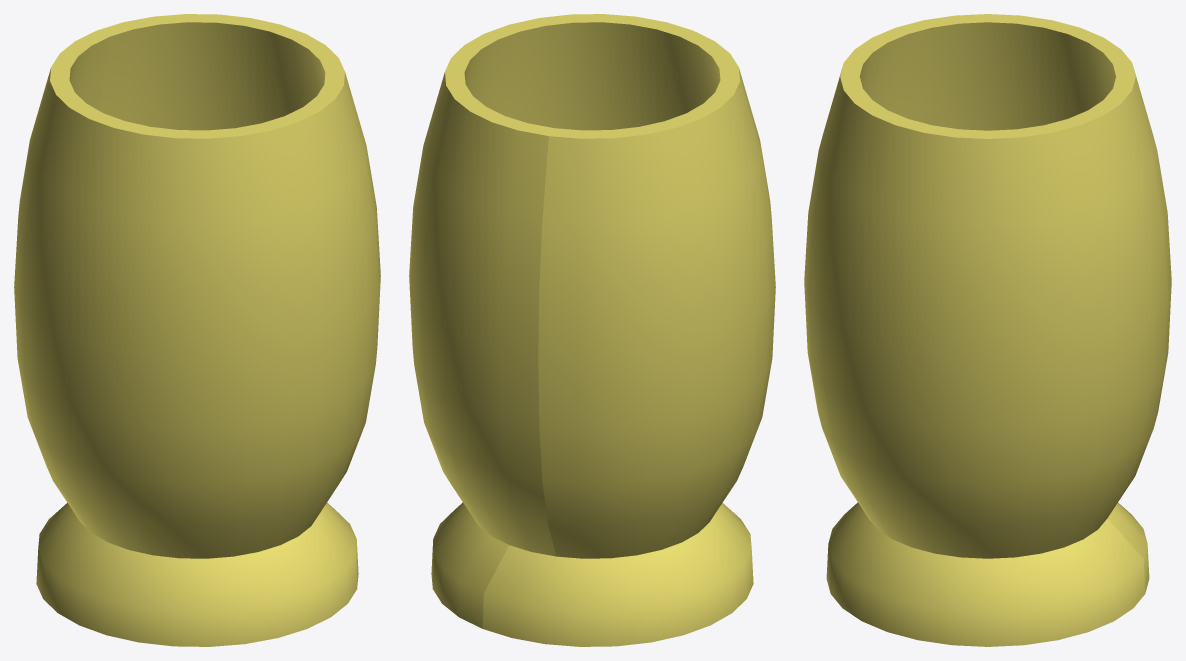
The model's file is SM_Dragon_Barrel_Body.fbx.
The picture shows the model from 3 angles, left to right: view 1: azimuth 30°, elevation 25°; view 2: azimuth 150°, elevation 25°; view 3: azimuth 270°, elevation 25°; orthographic projection.
Visible parts, largest first — view 1: SM_Dragon_Barrel_Body; view 2: SM_Dragon_Barrel_Body; view 3: SM_Dragon_Barrel_Body.
Boxes of the visible parts, x1=… form: SM_Dragon_Barrel_Body: x1=14, y1=14, x2=380, y2=646; SM_Dragon_Barrel_Body: x1=409, y1=14, x2=775, y2=646; SM_Dragon_Barrel_Body: x1=804, y1=14, x2=1171, y2=646.
Size of the model in its own units: 0.5583 by 0.8418 by 0.5583.
